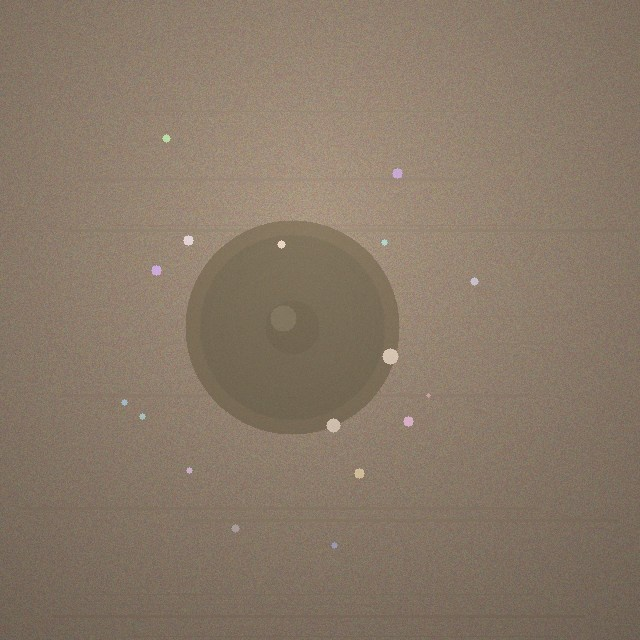overburn: (185, 220, 399, 434)
